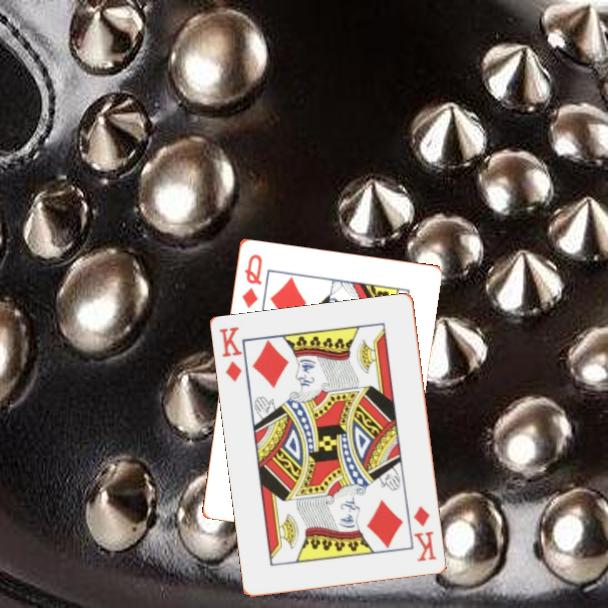d12: (238, 250, 265, 311)
d13: (410, 503, 439, 565), (216, 323, 245, 385)
